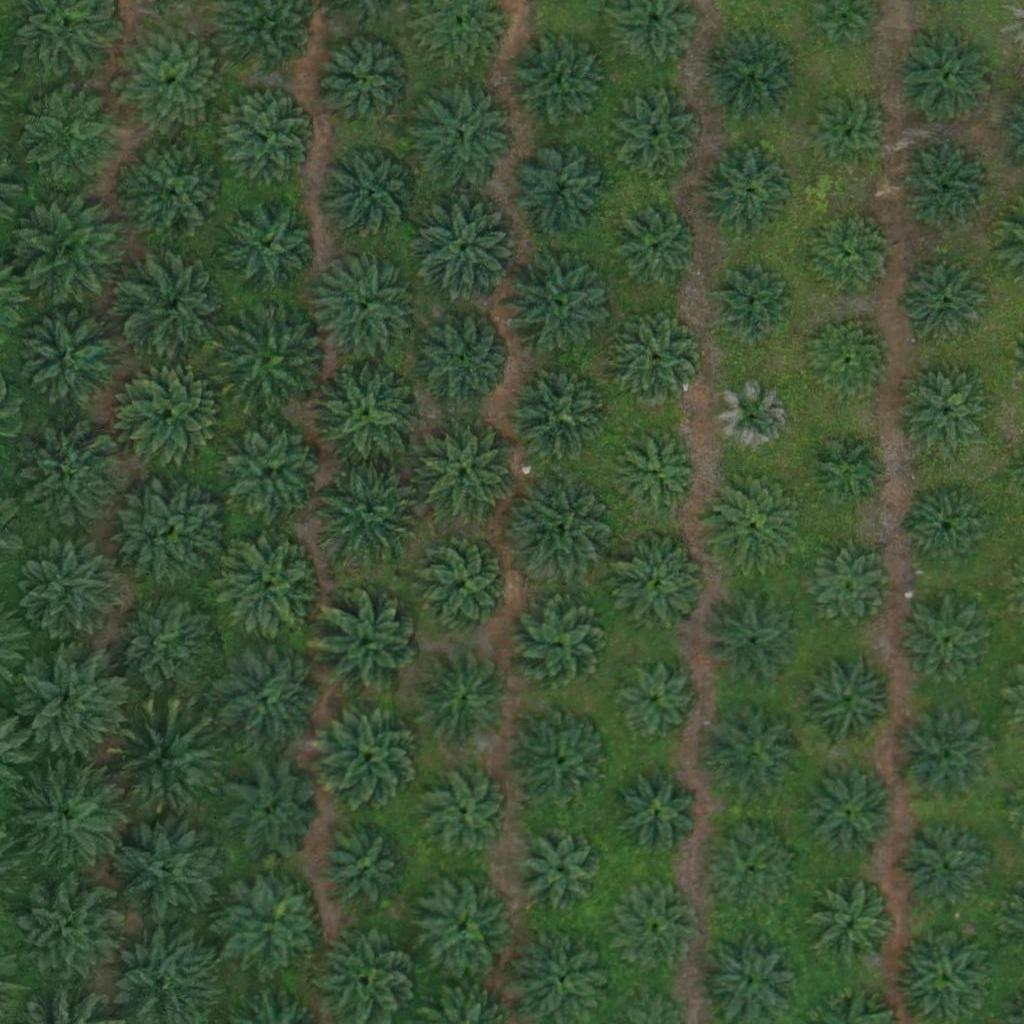Kelapa_Sawit: (116, 25, 229, 139), (120, 137, 233, 251), (217, 301, 330, 415), (309, 358, 422, 472), (317, 457, 430, 571), (15, 532, 128, 645), (504, 248, 617, 361), (311, 589, 424, 702), (313, 699, 426, 812), (112, 812, 225, 925), (17, 646, 130, 759), (8, 759, 121, 872), (14, 876, 127, 989), (307, 251, 419, 365), (504, 473, 616, 587), (18, 195, 130, 308), (16, 303, 128, 416), (120, 252, 232, 365), (119, 476, 231, 589), (411, 192, 523, 305), (110, 592, 222, 705), (109, 707, 221, 820), (24, 427, 124, 528), (122, 363, 222, 464), (224, 420, 324, 521), (320, 36, 420, 137), (322, 142, 422, 243), (415, 80, 515, 181), (509, 32, 609, 133), (512, 140, 612, 241), (510, 364, 610, 465), (708, 473, 808, 574), (891, 707, 991, 808), (796, 538, 896, 639), (796, 648, 896, 749), (702, 588, 802, 689), (413, 648, 513, 749), (414, 876, 514, 977), (217, 535, 317, 636), (214, 647, 314, 748), (223, 763, 323, 864), (224, 873, 324, 974), (28, 87, 128, 187), (219, 86, 319, 186), (222, 197, 322, 297), (414, 308, 514, 408), (416, 425, 516, 525), (898, 28, 998, 128), (705, 704, 805, 804), (610, 532, 710, 632), (509, 594, 609, 694), (513, 710, 613, 810), (413, 535, 513, 635), (614, 94, 702, 183), (804, 318, 892, 407), (906, 485, 994, 574), (805, 425, 893, 513), (708, 37, 796, 125), (705, 150, 793, 238), (807, 216, 895, 304), (901, 599, 989, 687), (900, 824, 988, 912), (613, 661, 701, 749), (322, 825, 410, 913), (611, 208, 698, 296), (614, 318, 701, 406), (903, 145, 990, 233), (902, 261, 989, 349), (903, 371, 990, 459), (805, 772, 892, 860), (808, 883, 895, 971), (708, 832, 795, 920), (520, 824, 607, 912), (422, 768, 509, 856), (620, 435, 695, 511), (622, 778, 697, 854), (620, 889, 695, 965), (810, 100, 885, 175), (714, 268, 789, 343), (716, 382, 791, 457)
